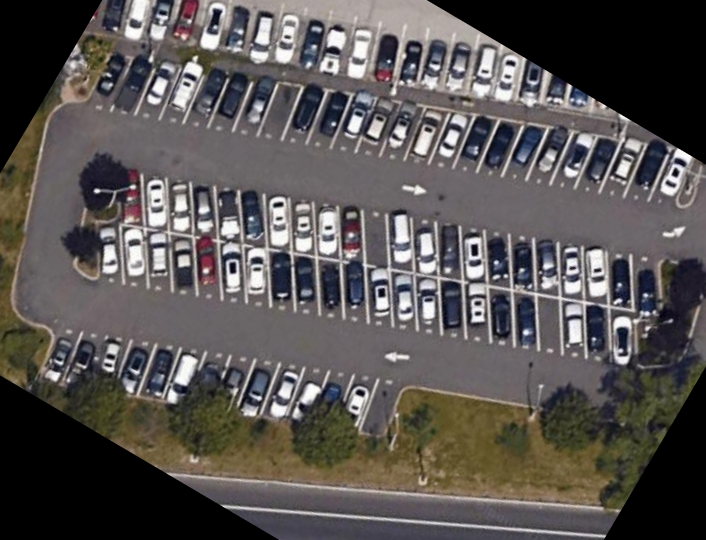parkingspot: (93, 158, 664, 374), (77, 47, 695, 210), (83, 0, 638, 125), (32, 325, 410, 440)
